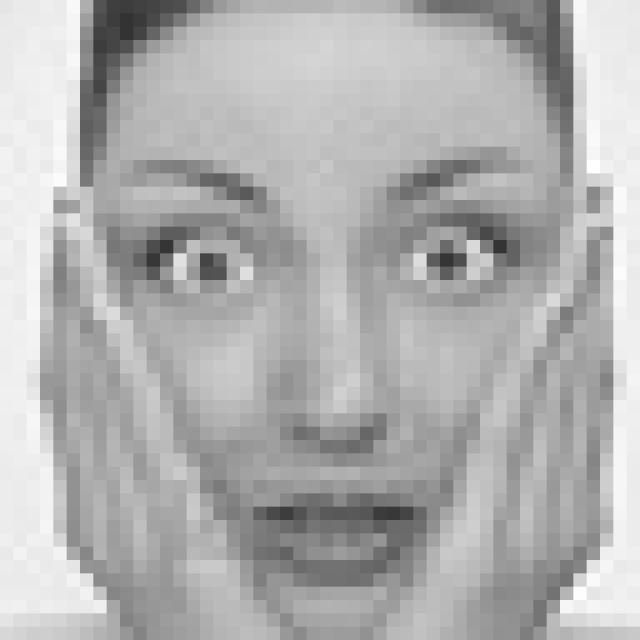fear: (118, 149, 532, 596)
